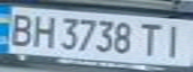3: (93, 18, 118, 54), (57, 15, 81, 51)
7: (75, 16, 96, 53)
8: (112, 18, 136, 55)
B: (3, 10, 36, 47)
H: (27, 12, 57, 48)
I: (160, 21, 190, 59)
T: (136, 20, 166, 57)
